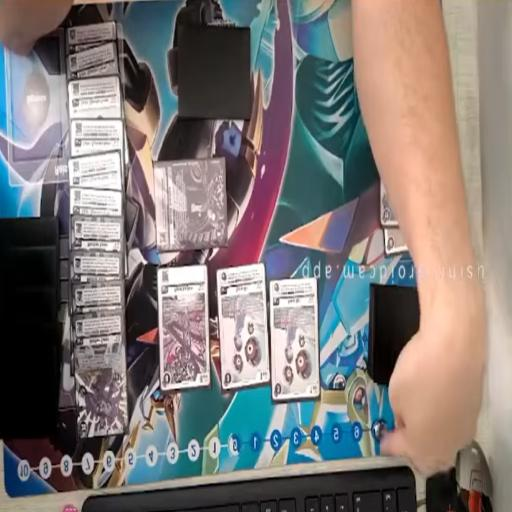card: (154, 157, 228, 253), (74, 315, 129, 440), (158, 264, 210, 391), (217, 263, 269, 389), (270, 277, 320, 402), (67, 116, 123, 162), (65, 40, 118, 88), (69, 76, 123, 120), (70, 277, 125, 320), (69, 150, 123, 191), (70, 214, 124, 254), (70, 248, 124, 287), (64, 22, 118, 57), (69, 188, 126, 216), (379, 221, 416, 255), (380, 182, 402, 220)
